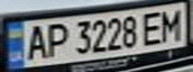2: (106, 15, 127, 52), (90, 16, 109, 54)
3: (72, 17, 93, 55)
8: (121, 12, 142, 50)
A: (21, 21, 51, 61)
E: (139, 9, 169, 46)
M: (157, 6, 187, 43)
P: (42, 20, 69, 58)
